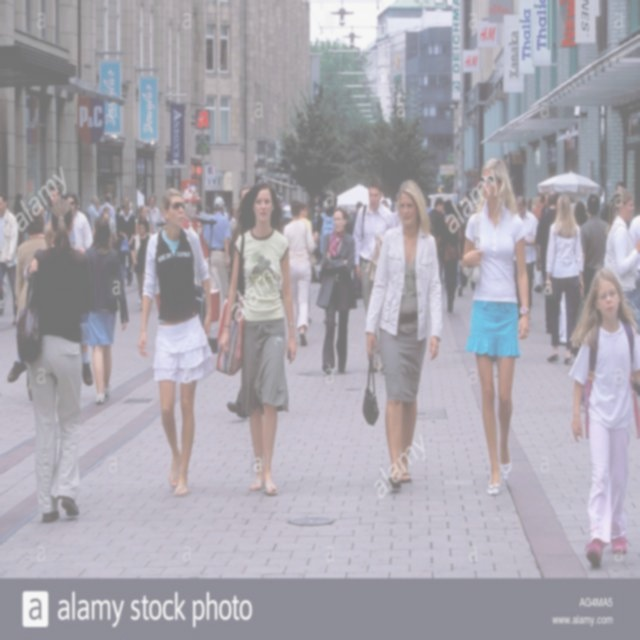pessoa: (342, 188, 640, 302), (10, 195, 96, 526), (361, 174, 444, 497), (214, 177, 298, 496), (134, 183, 218, 500), (458, 153, 534, 498), (565, 262, 640, 574), (9, 192, 248, 273), (6, 220, 94, 388), (83, 216, 130, 406), (312, 205, 360, 378), (352, 177, 396, 356), (545, 194, 585, 366), (602, 186, 640, 337), (282, 196, 318, 348), (430, 196, 467, 316), (534, 188, 560, 334), (512, 194, 540, 324), (312, 190, 338, 327), (578, 193, 610, 300), (427, 196, 465, 286), (204, 195, 232, 302), (0, 192, 19, 326), (130, 217, 152, 311)
